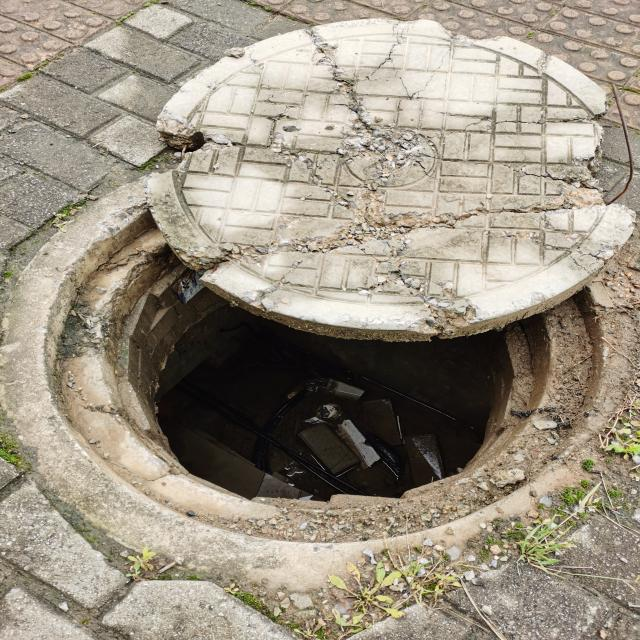Lose: (9, 19, 632, 547)
